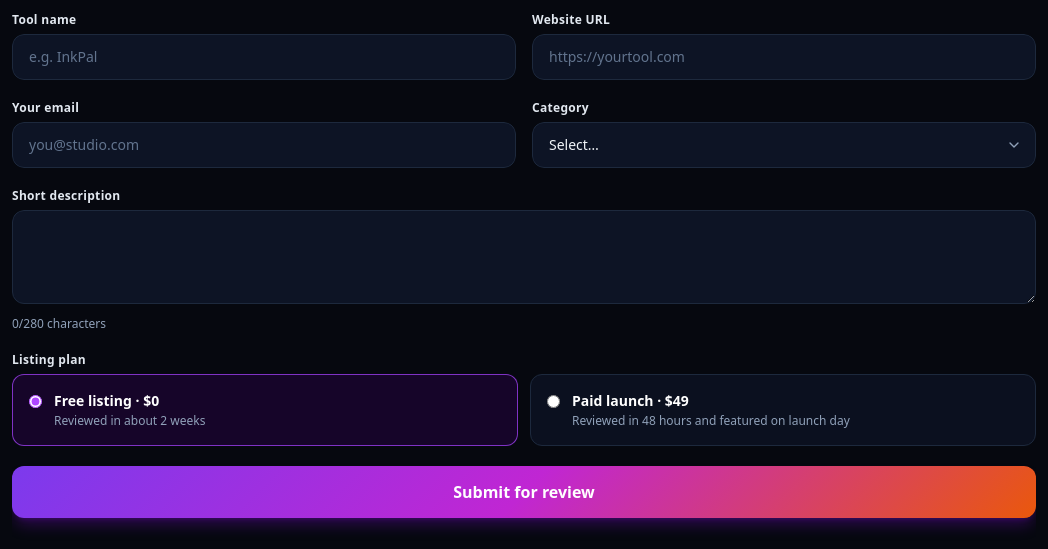
Test: SubmitToolForm › changes the button to show the price when the paid launch is picked
The image size is (1048, 549).
Click the radio button labelled "Paid launch".
click(554, 402)  # box x1=547 y1=395 x2=560 y2=408
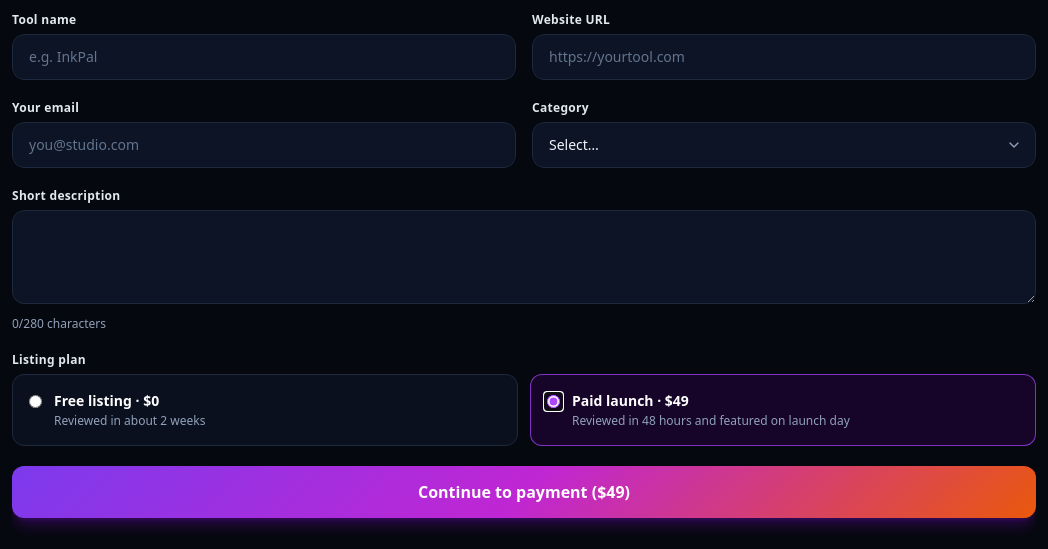
Check: the button "Continue to payment ($49)" is shown, box x1=12 y1=466 x2=1036 y2=518
